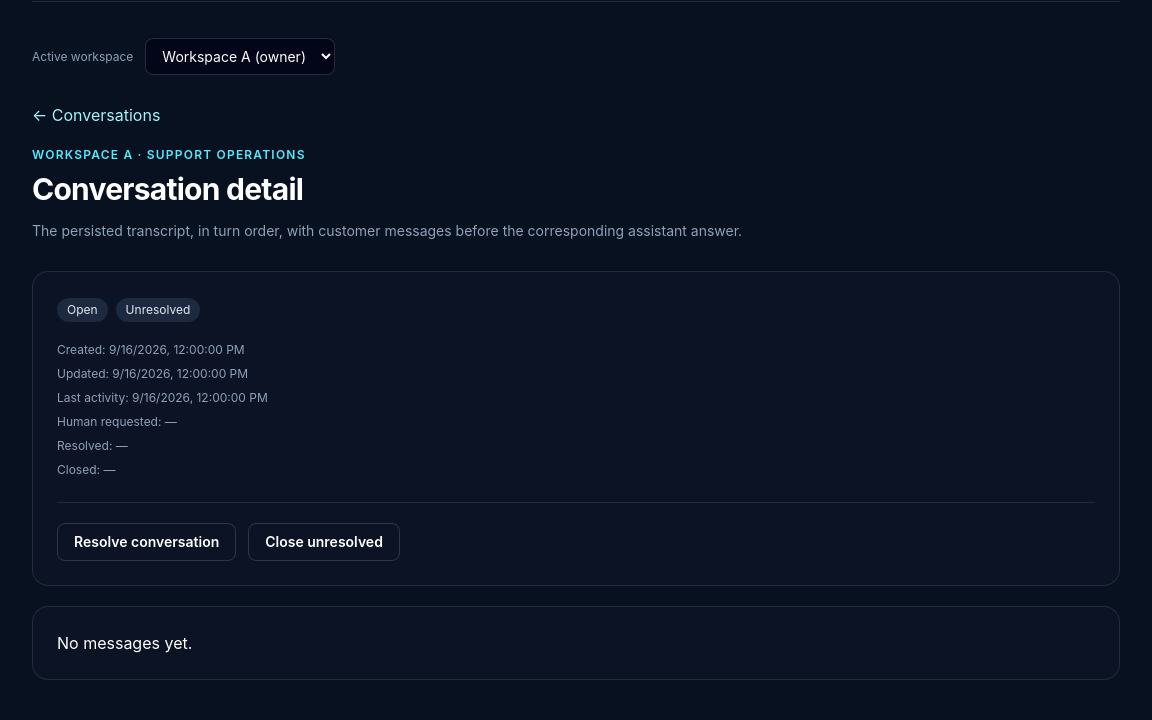
Test: explicit conversation lifecycle › updates only from successful server Resolve conversation state
(page scrolled)
What coordinates should you click on to do the following:
click the button "Resolve conversation"
I would click on:
 (147, 542)
Its box is 57,523 -> 236,561.
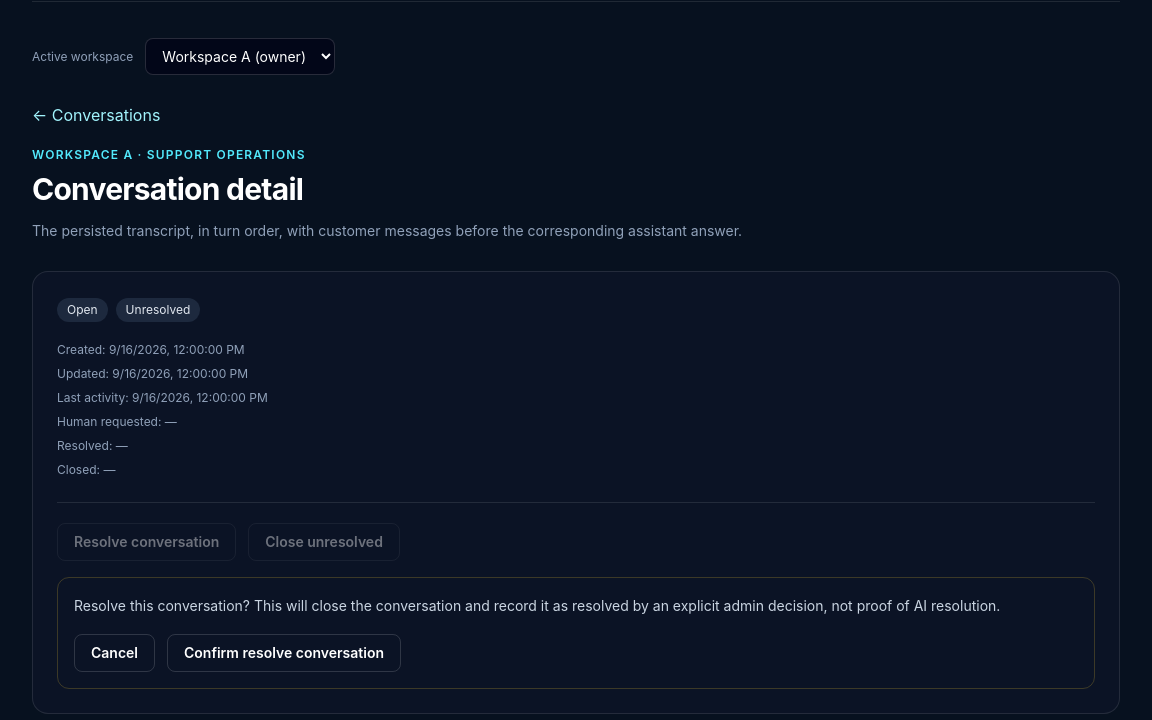
What coordinates should you click on to do the following:
click the button "Confirm resolve conversation"
I would click on:
 (284, 653)
Its box is 167,634 -> 401,672.
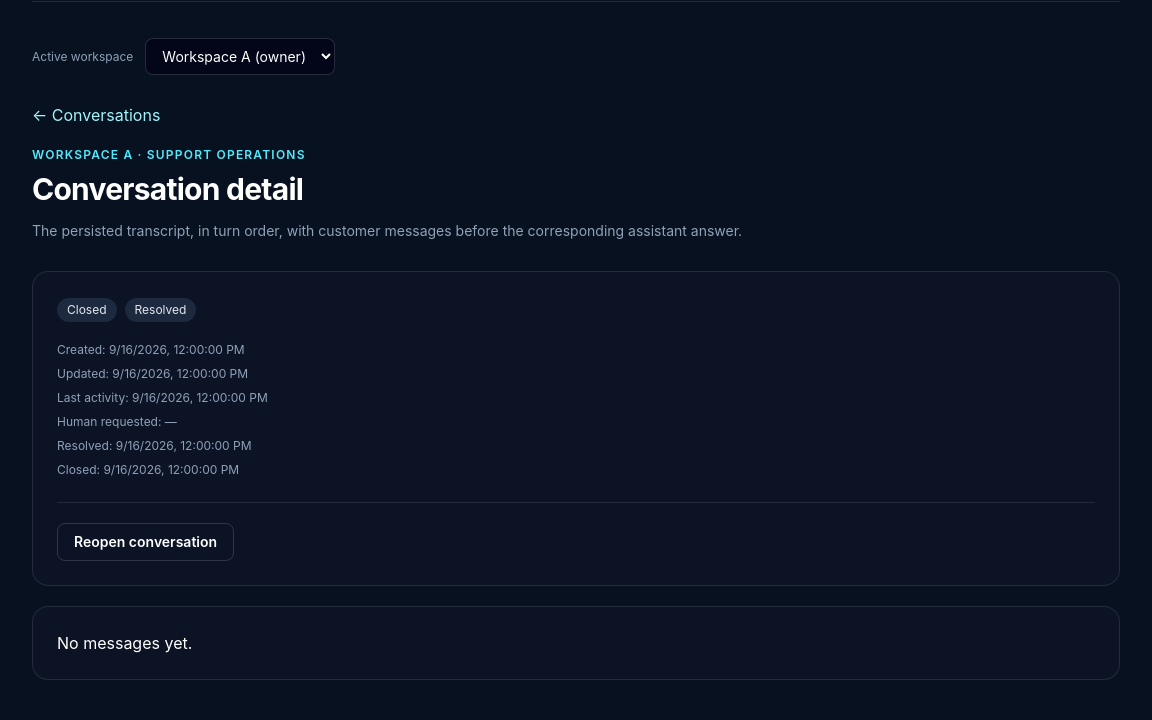
Expected: the button "Reopen conversation" is shown, 57,523 -> 234,561
